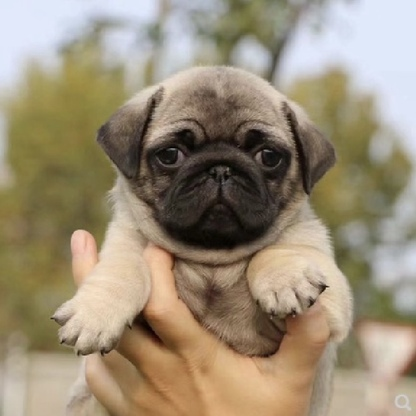Pug: (41, 55, 361, 367)
